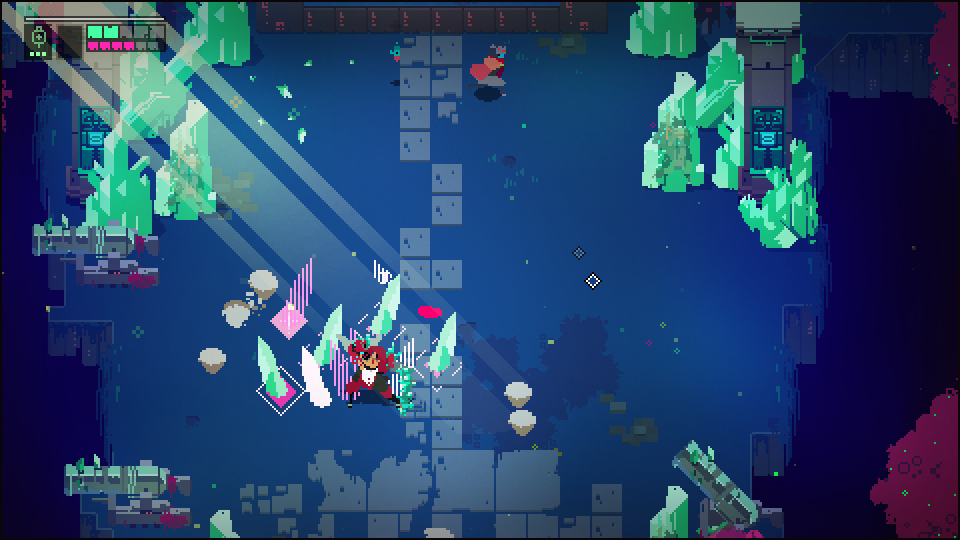hanged_crys: (254, 332, 289, 400), (281, 255, 311, 332), (425, 308, 457, 375), (296, 346, 328, 407), (371, 275, 402, 335)
hanged_man: (333, 333, 414, 415)
player: (468, 39, 513, 101)
